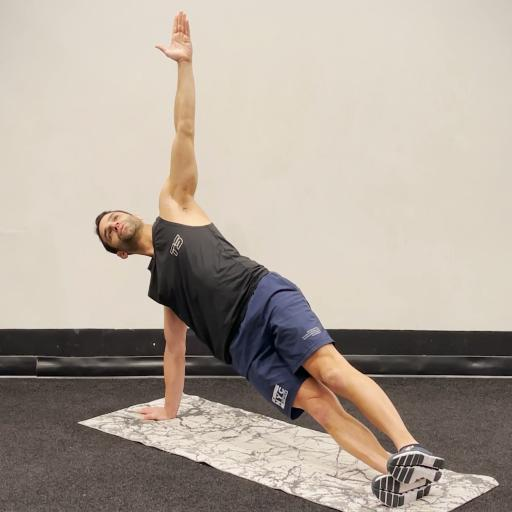Normal_BrenchPress: (94, 11, 446, 509)
